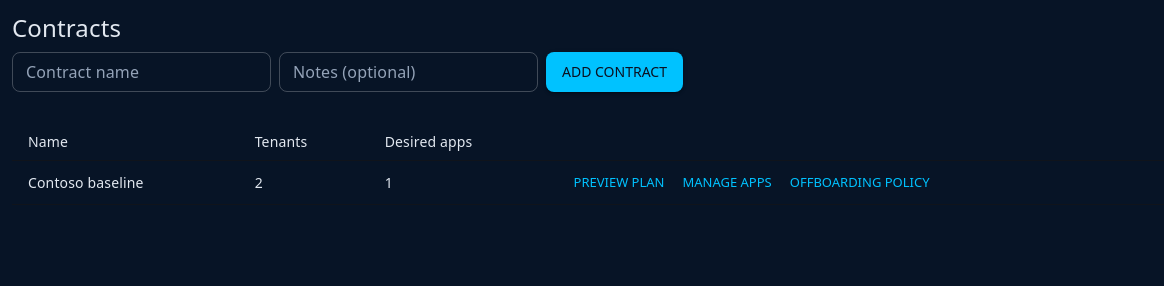
Scenario: Contracts › shows an error when the plan preview fails
Click the button "Preview plan" at x=619, y=183, box [568,167,670,198]
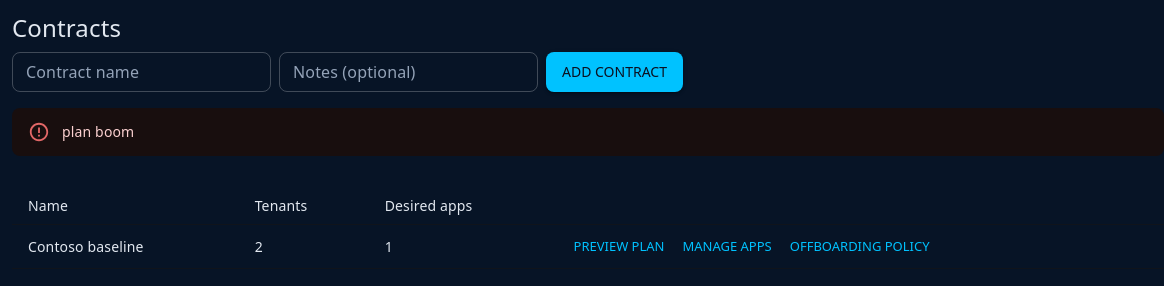
Result: the text "plan boom" is shown at [62,122,134,141]
